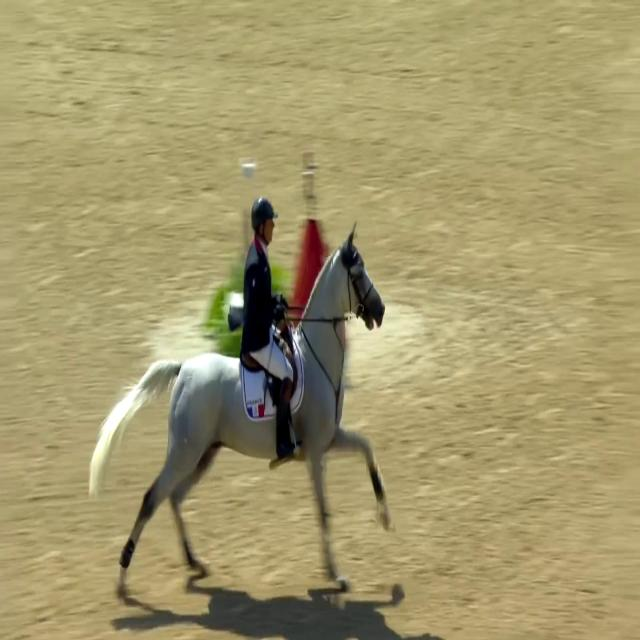Horse Rider: (232, 164, 309, 498)
Horse Running: (79, 224, 400, 596)
